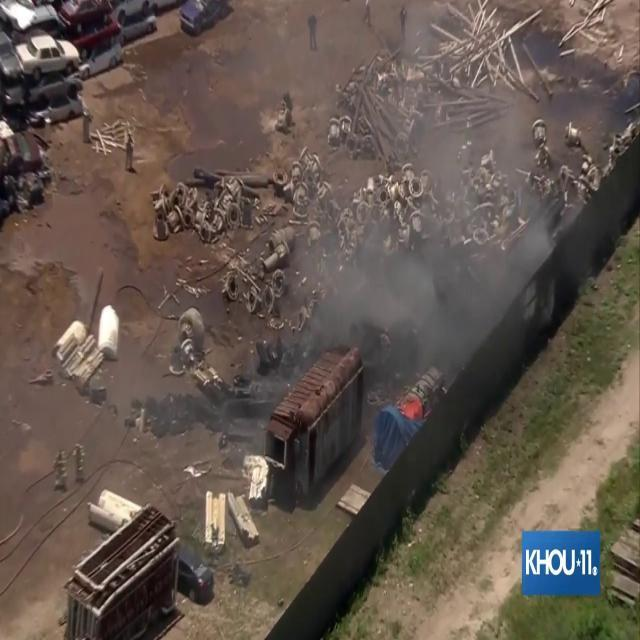Smoke: (304, 206, 546, 372)
